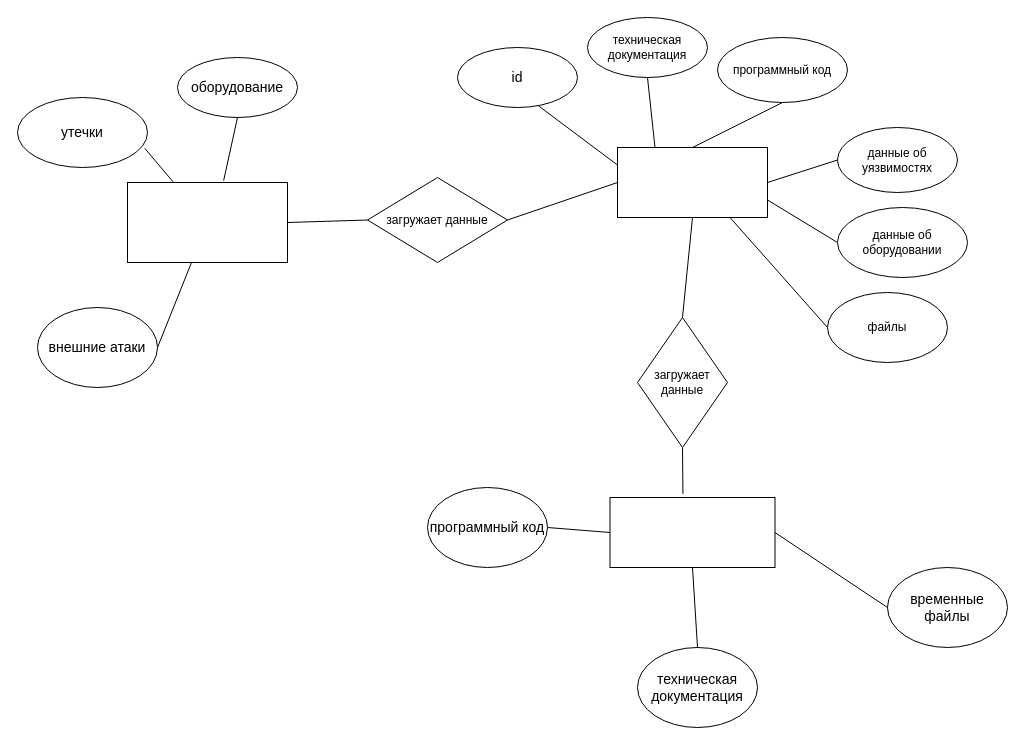
This 1025x745 diagram has some shape labels left out. Each missing label, with the centre of its shape:
База данных: point 692,182
разработчики: point 692,532
сотрудники информационной безопасности: point 207,222
